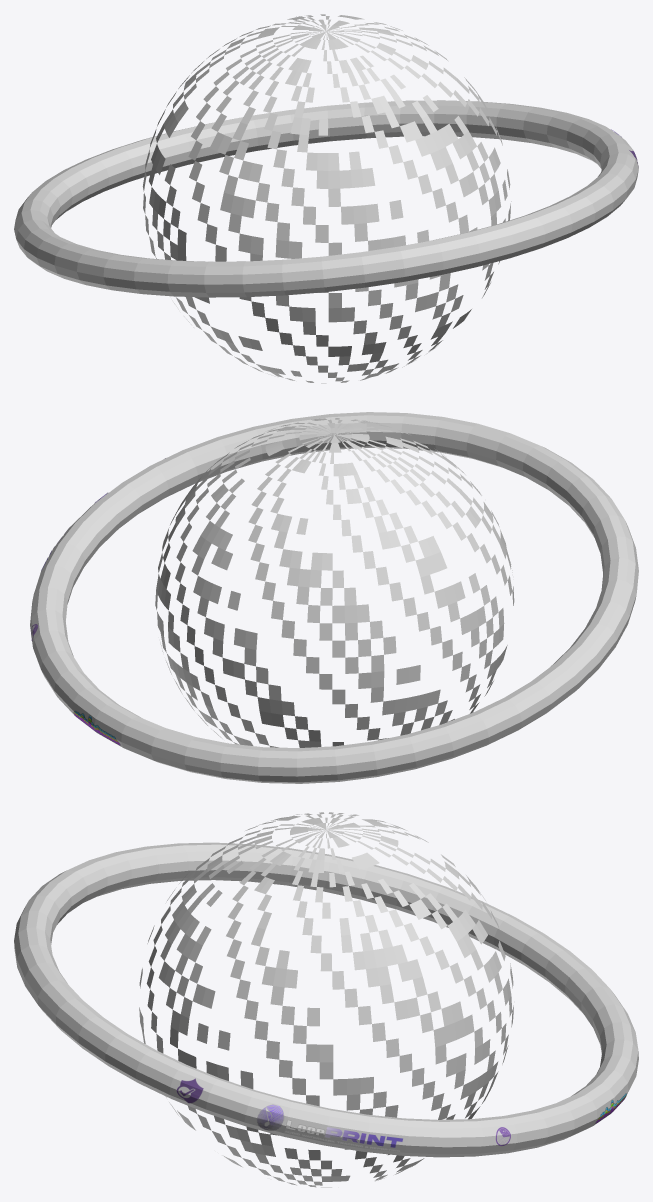
File: sphereV4.3.4.glb
3 views of the same model, one above another, from view 1: azimuth 30°, elevation 25°; view 2: azimuth 150°, elevation 25°; view 3: azimuth 270°, elevation 25° (orthographic). The views are drawn at different scales.
Visible parts, largest first — view 1: Torus, Sphere; view 2: Torus, Sphere; view 3: Torus, Sphere, loopPrint-header.
Part boxes in pixels (x1,y1,x2,y2): Torus: (14,100,638,297); Sphere: (142,14,511,383); Torus: (30,412,638,783); Sphere: (155,418,514,747); Torus: (14,842,638,1157); Sphere: (139,812,513,1187); loopPrint-header: (257,1104,403,1151).
Bounding box in the file's own units: 17.65 × 10 × 16.64.
4 materials, 4 textured.
